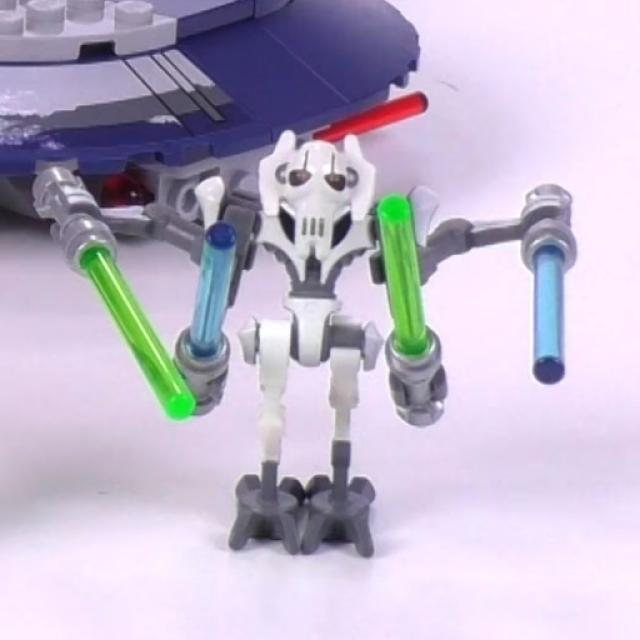Lego-Minifigures: (31, 103, 611, 594)
